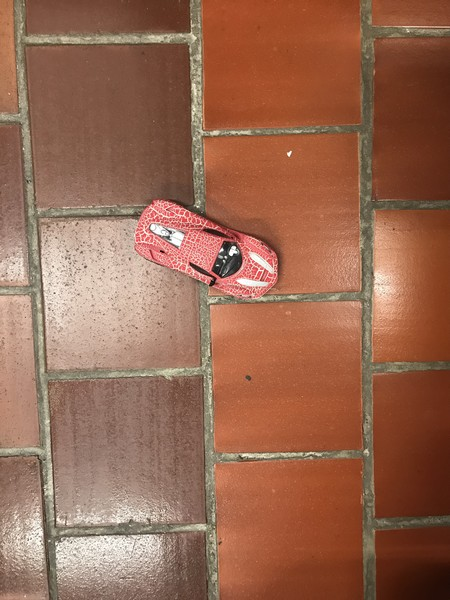RC: (132, 197, 282, 304)
